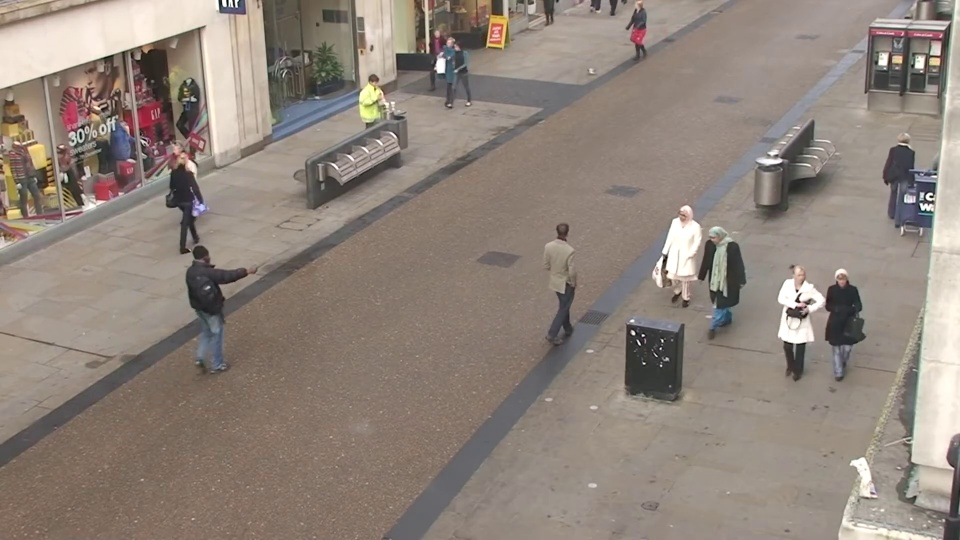pedestrian: (812, 265, 864, 402), (767, 265, 817, 400), (190, 234, 240, 359), (690, 225, 733, 350), (662, 204, 702, 324), (549, 214, 587, 337), (876, 126, 921, 227), (175, 145, 216, 246), (154, 140, 195, 239), (360, 72, 390, 154), (439, 40, 466, 115), (433, 35, 459, 108), (422, 24, 448, 94), (623, 0, 645, 64)
